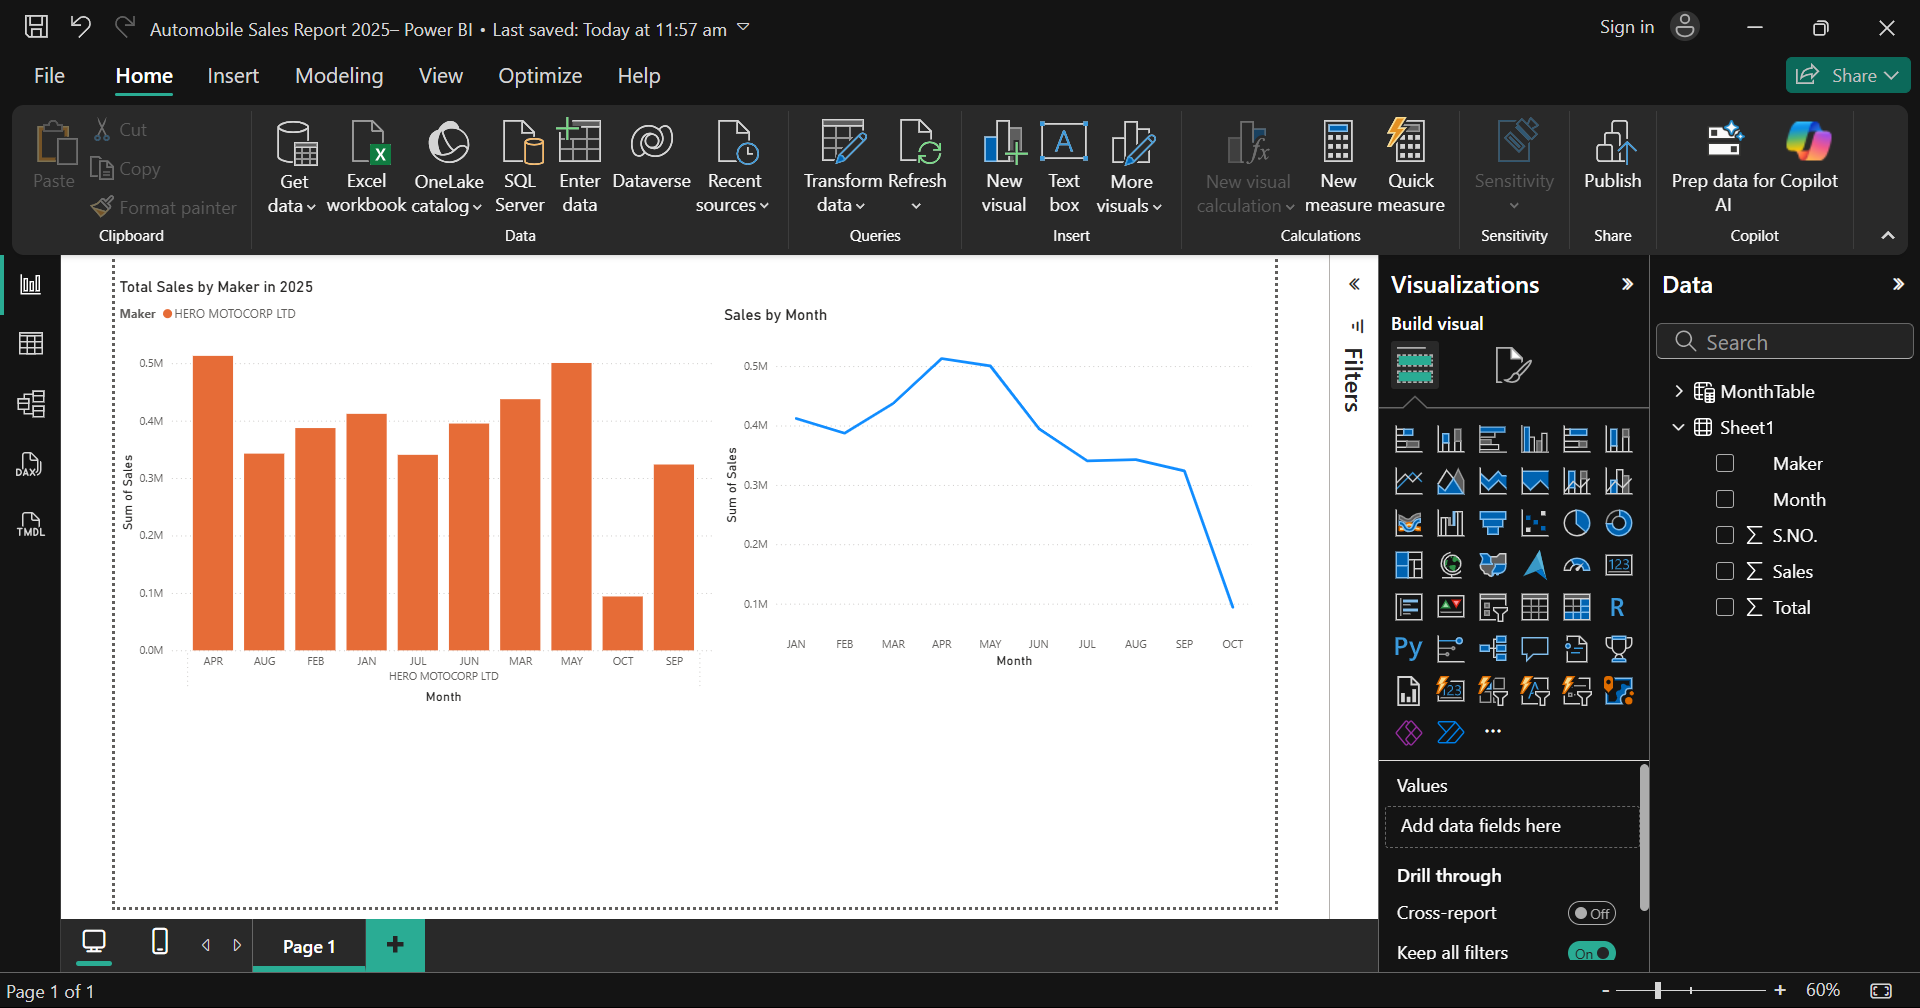

The dashboard page shown, as its layout file describes it:
{"tool":"powerbi","page":{"name":"Page 1","canvas":[1280,720],"ordinal":0},"visuals":[{"type":"clusteredColumnChart","fields":{"Category":["Sheet1.Maker","Sheet1.Month"],"Y":["Sum(Sheet1.Sales)"]},"box":[146.1,13.5,587.6,331.5],"z":0},{"type":"lineChart","fields":{"Y":["Sum(Sheet1.Sales)"],"Category":["MonthTable.Month"]},"box":[146.7,392.2,586.7,327.8],"z":1000}]}

Visuals, with their boxes on the page's 1280x720 design canvas (x1, y1, x2, y2). These are canvas units, not pixel positions in the 1920x1008 screenshot, which may show the page scaled, cropped or inside an application window:
clusteredColumnChart - Sheet1.Maker x Sheet1.Month: 146:14:734:345
lineChart - Sum(Sheet1.Sales) x MonthTable.Month: 147:392:733:720
